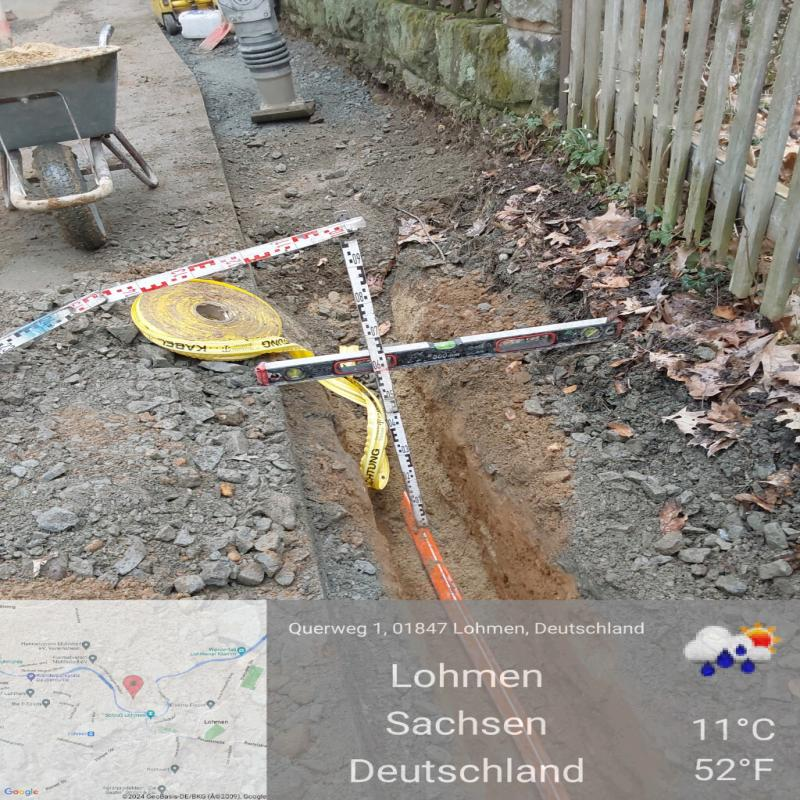Orang-Speednetrohrchen: (399, 492, 467, 617)
